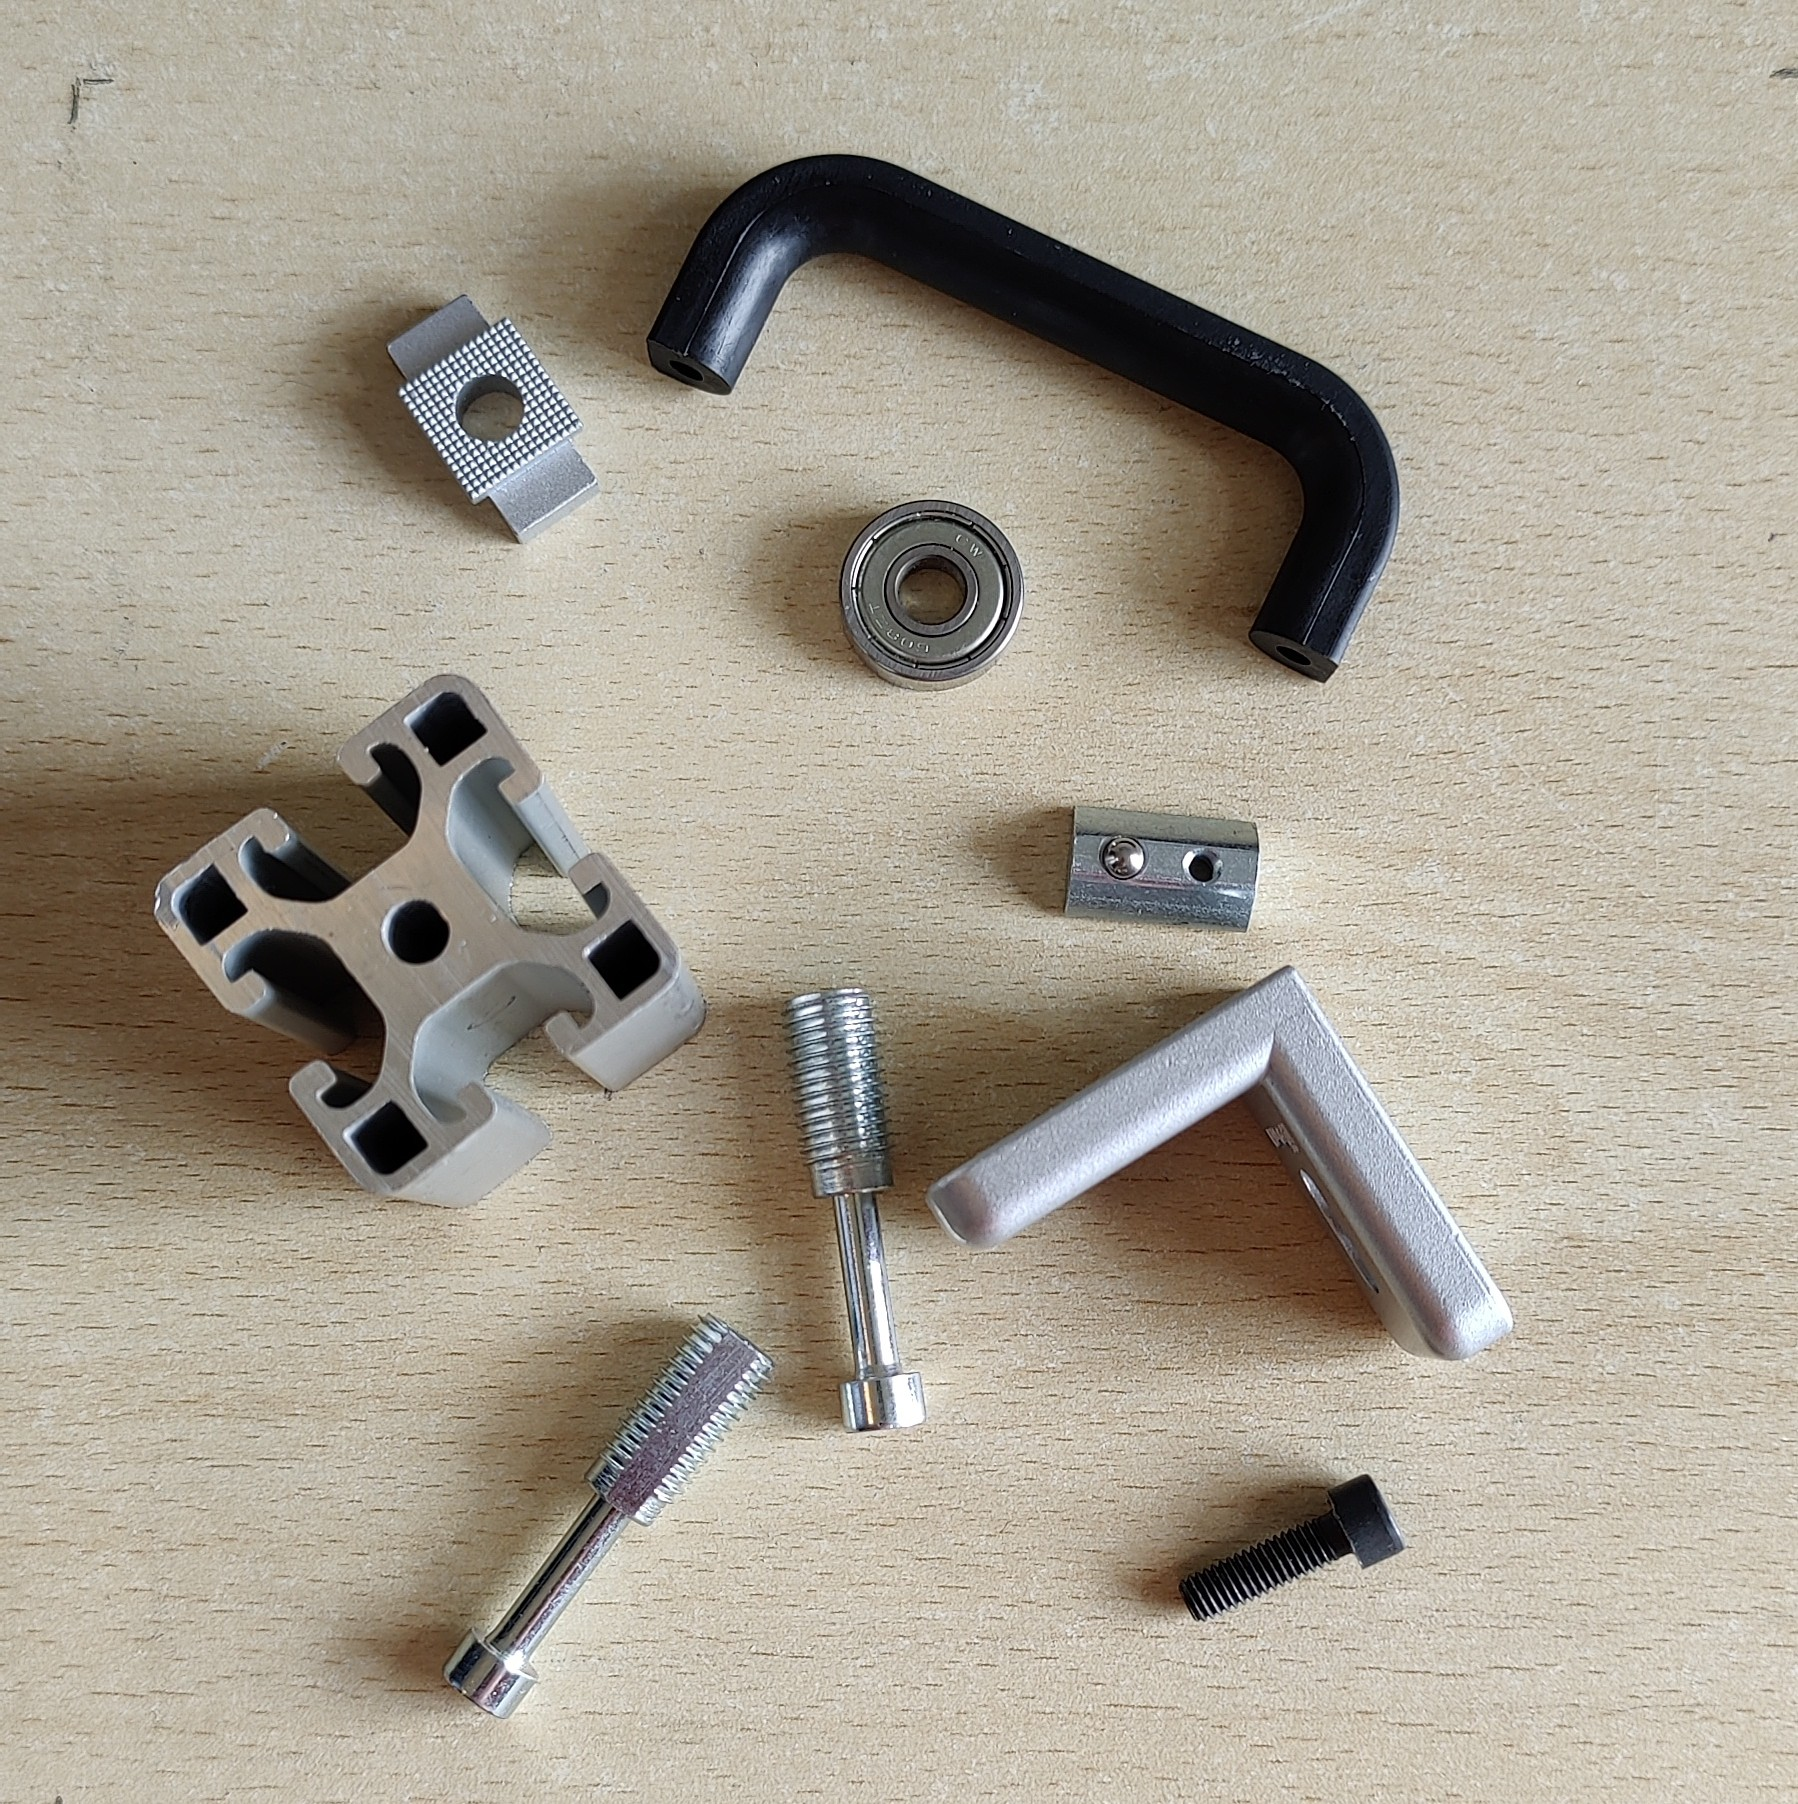Aluminium Extension: (151, 672, 706, 1211)
Ball Bearing: (836, 497, 1027, 693)
Multiwinkel: (919, 961, 1515, 1363)
Pull Handle: (644, 151, 1401, 686)
Shoulder Socket Head Cap Screw: (441, 1309, 777, 1722), (780, 984, 932, 1435)
Socket Head Cap Screw: (1174, 1472, 1409, 1625)
T Nut Square: (384, 288, 603, 550)
T Spring Nut: (1059, 800, 1261, 937)
